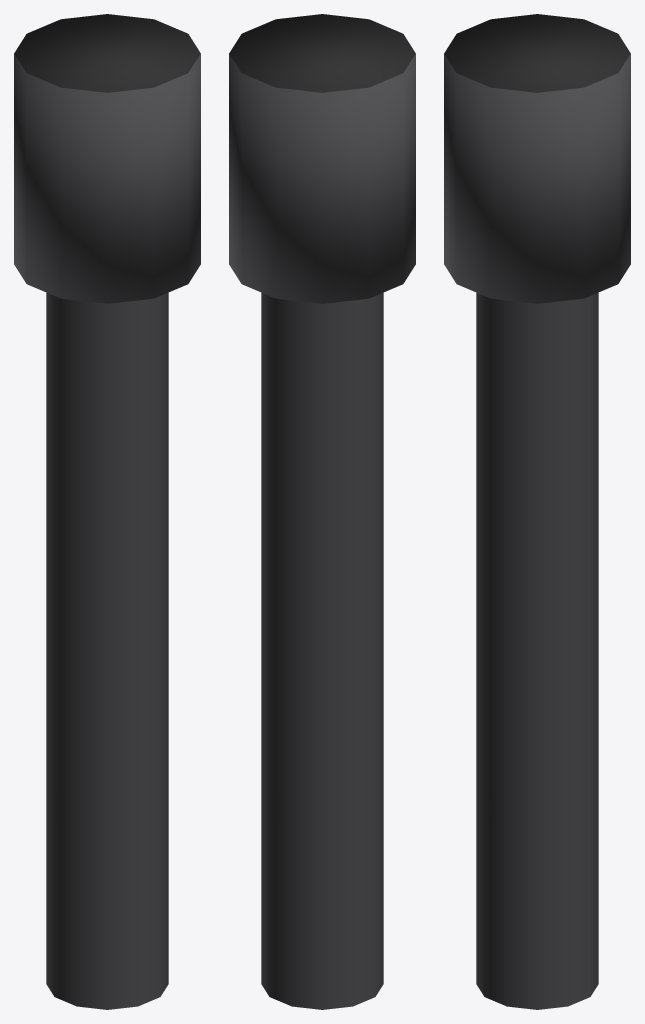
File: Furnace 4 Pipe.glb
3 views of the same model, side by side, from view 1: azimuth 30°, elevation 25°; view 2: azimuth 150°, elevation 25°; view 3: azimuth 270°, elevation 25° (orthographic).
Visible parts, largest first — view 1: Furnace 4 Pipe; view 2: Furnace 4 Pipe; view 3: Furnace 4 Pipe.
Boxes of the visible parts, x1,y1,x2,y2 form: Furnace 4 Pipe: (14, 14, 200, 1009); Furnace 4 Pipe: (229, 14, 415, 1009); Furnace 4 Pipe: (444, 14, 630, 1009).
Size of what is drawn, in the model's own units: 0.4731 by 2.6 by 0.4731.
1 material, 1 textured.
